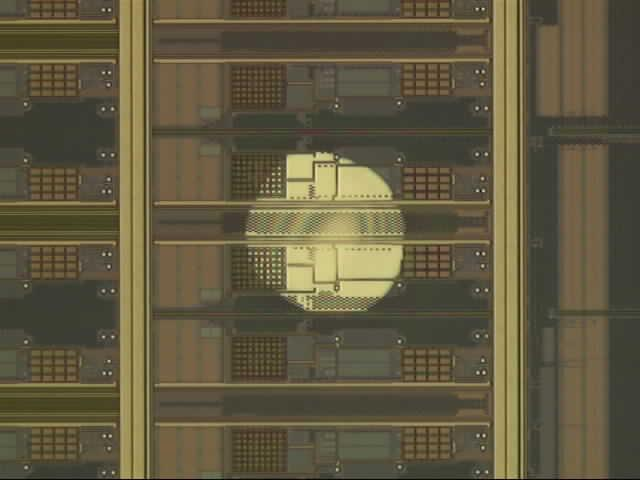COATING BAD: (238, 144, 418, 324)
